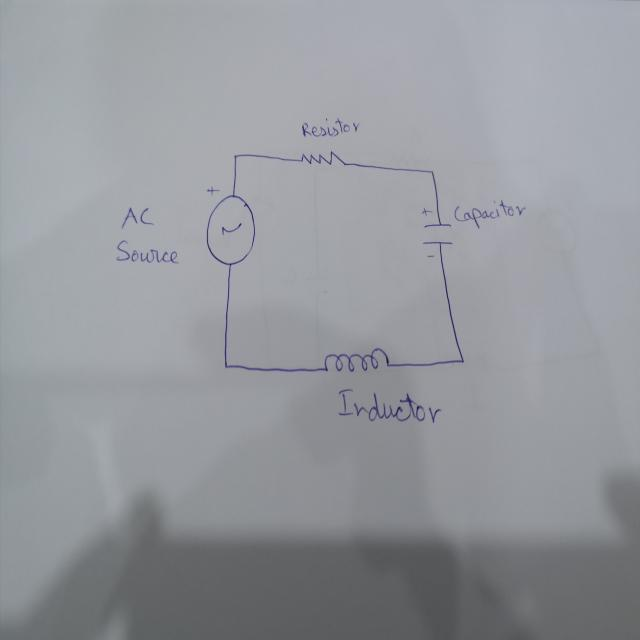capacitor: (419, 206, 454, 264)
inductor: (322, 345, 390, 378)
junction: (220, 356, 232, 374), (231, 150, 240, 162), (427, 167, 436, 179), (457, 354, 466, 366)
resistor: (297, 146, 346, 170)
source: (204, 182, 260, 268)
text: (337, 384, 443, 424), (452, 196, 528, 230), (114, 236, 181, 268), (300, 114, 360, 140), (118, 204, 156, 231)
